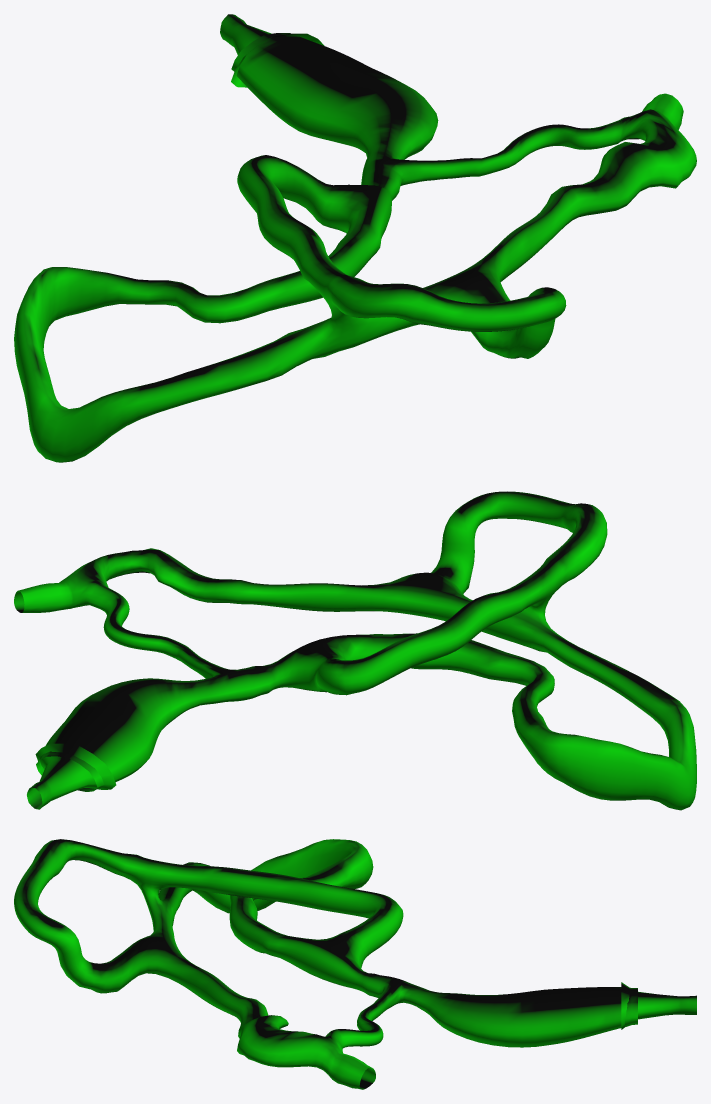
File: cave2.obj
The picture shows the model from 3 angles, top to bottom: view 1: azimuth 30°, elevation 25°; view 2: azimuth 150°, elevation 25°; view 3: azimuth 270°, elevation 25°; orthographic projection. The views are drawn at different scales.
Parts seen in each view (by area): view 1: Part1; view 2: Part1; view 3: Part1.
Boxes of the visible parts, x1=… form: Part1: x1=14, y1=14, x2=696, y2=462; Part1: x1=14, y1=491, x2=696, y2=810; Part1: x1=14, y1=839, x2=696, y2=1089.
Size of the model in its own units: 77.54 by 21.18 by 81.67.
